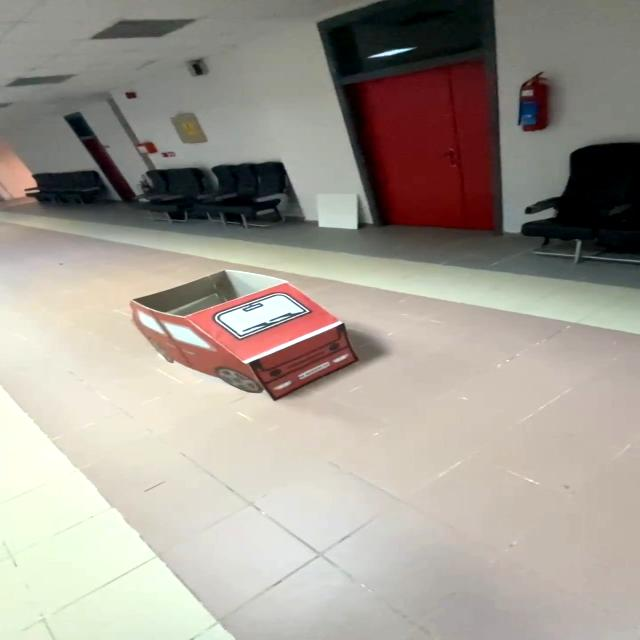red_car: (84, 258, 407, 418)
